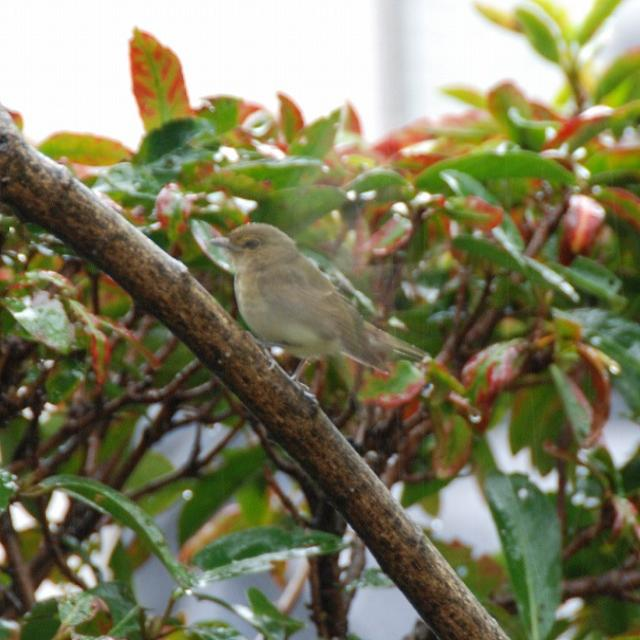bird: (202, 206, 415, 392)
